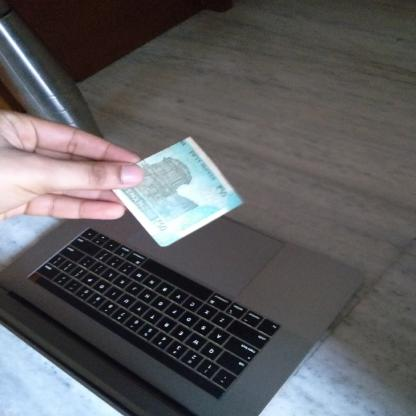New50Back: (110, 136, 237, 236)
